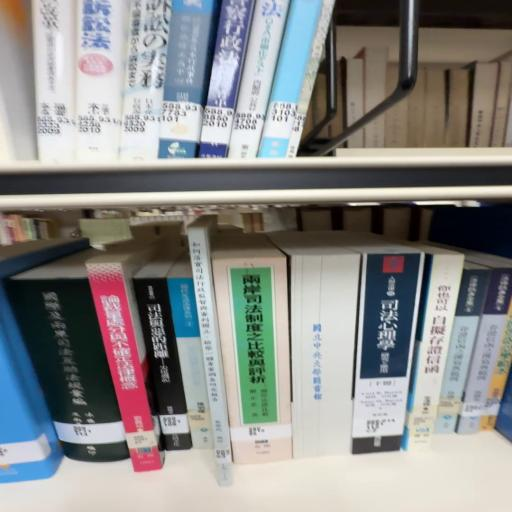backward: (272, 233, 362, 459)
book: (2, 272, 128, 463), (87, 249, 166, 472), (349, 254, 423, 457), (211, 252, 289, 430), (133, 264, 194, 455)
